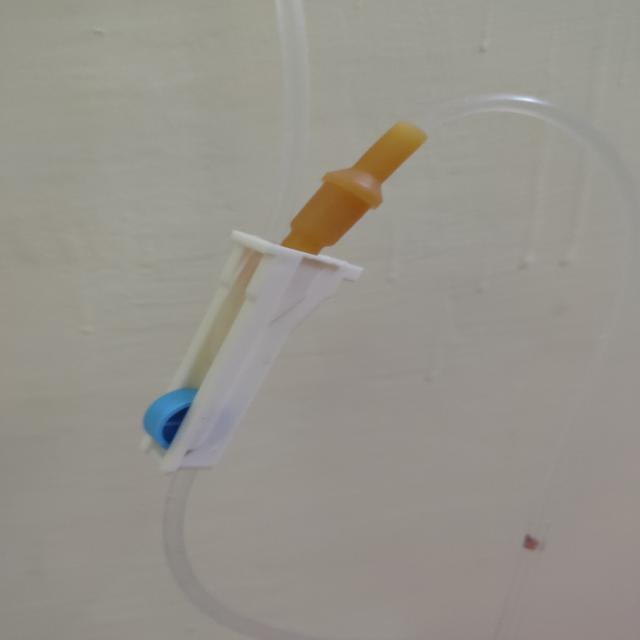B3: (103, 80, 640, 637)
